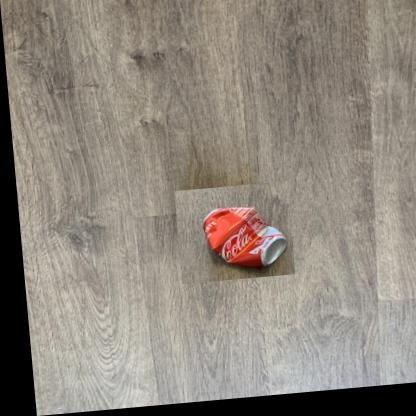trash: (203, 208, 286, 267)
